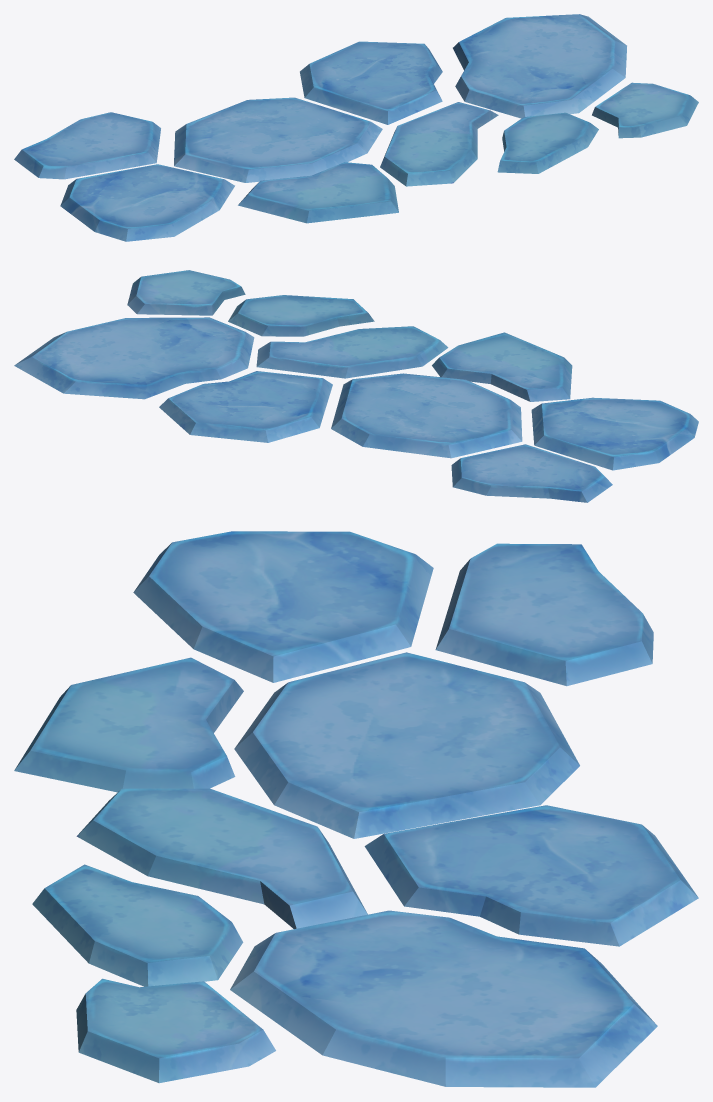
The model's file is SM_Enviro_RocksPath.fbx.
3 renders of one model, top to bottom at view 1: azimuth 30°, elevation 25°; view 2: azimuth 150°, elevation 25°; view 3: azimuth 270°, elevation 25°, orthographic. The views are drawn at different scales.
Visible parts, largest first — view 1: SM_Enviro_RocksPath; view 2: SM_Enviro_RocksPath; view 3: SM_Enviro_RocksPath.
Part boxes in pixels (left/top/right/bottom): SM_Enviro_RocksPath: left=14, top=14, right=698, bottom=241; SM_Enviro_RocksPath: left=14, top=270, right=698, bottom=502; SM_Enviro_RocksPath: left=14, top=531, right=698, bottom=1087.
Size of the model in its own units: 301 by 4.36 by 160.
